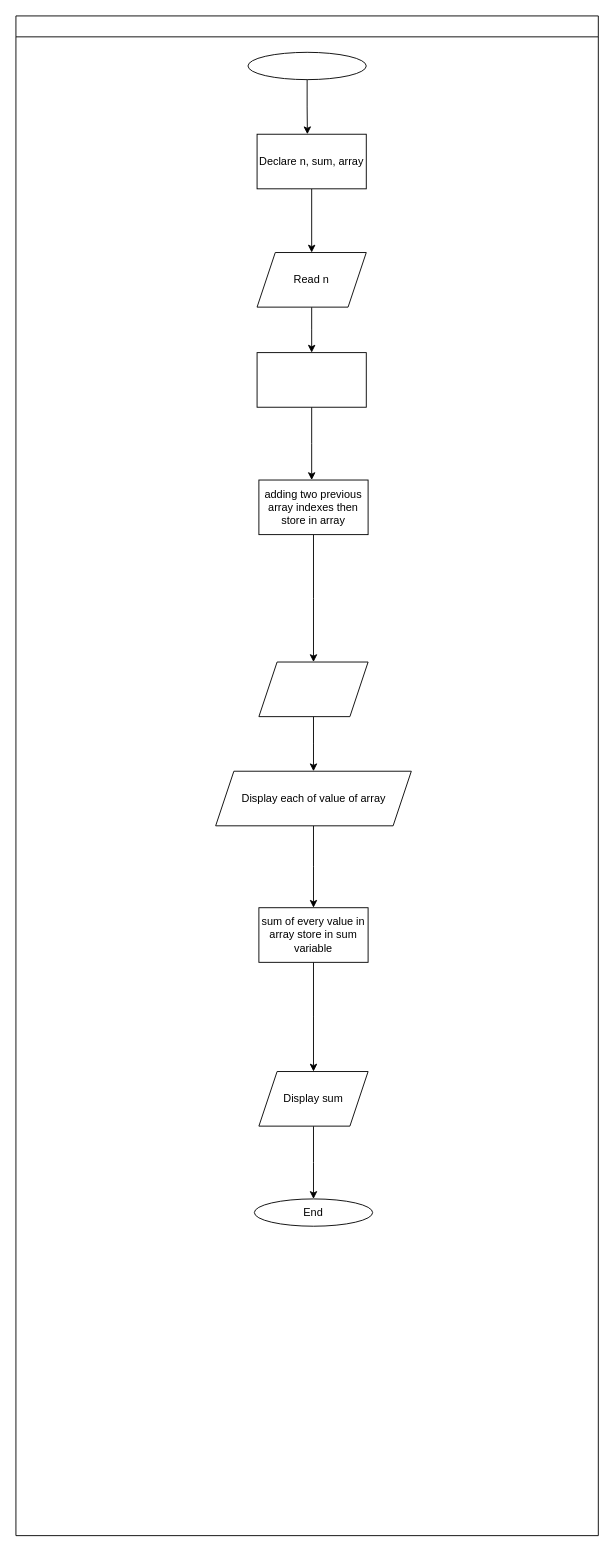
This 614x1552 diagram has some shape labels left out. Each missing label, with the centre of its shape:
Display "Series = ": point (313, 689)
Init arrary[ 0 ] = 1 array[ 1 ] = 1: point (311, 379)
Start: point (306, 65)
